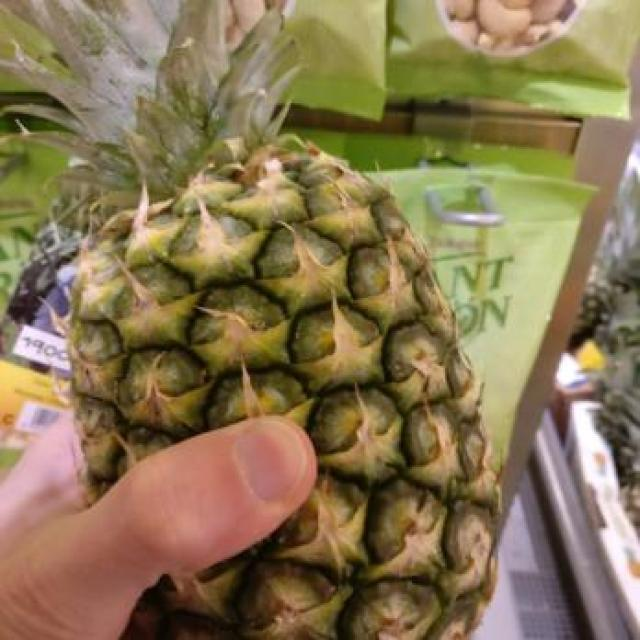pineapple: (1, 0, 499, 639)
